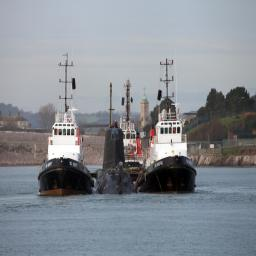submarine: (100, 75, 136, 202)
